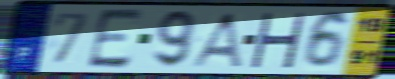6: (299, 9, 354, 73)
7: (51, 11, 92, 66)
9: (150, 9, 197, 70)
A: (187, 11, 245, 69)
E: (85, 7, 146, 70)
H: (248, 11, 308, 70)
